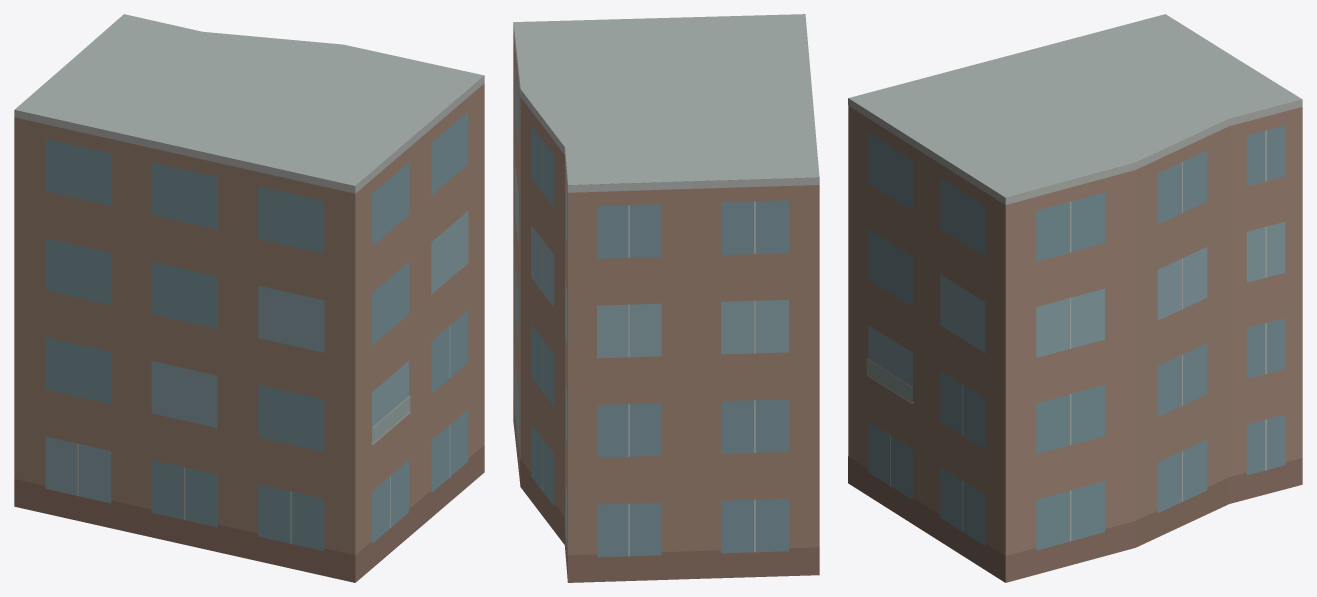
The model's file is survey-upis-33041985.glb.
The picture shows the model from 3 angles, left to right: view 1: azimuth 30°, elevation 25°; view 2: azimuth 150°, elevation 25°; view 3: azimuth 270°, elevation 25°; orthographic projection. The views are drawn at different scales.
Parts seen in each view (by area): view 1: survey-upis-33041985.tmp; view 2: survey-upis-33041985.tmp; view 3: survey-upis-33041985.tmp.
Part boxes in pixels (left/top/right/bottom): survey-upis-33041985.tmp: left=14, top=14, right=484, bottom=582; survey-upis-33041985.tmp: left=513, top=14, right=819, bottom=582; survey-upis-33041985.tmp: left=848, top=14, right=1302, bottom=582.
Size of the model in its own units: 13 by 12.7 by 13.59.
